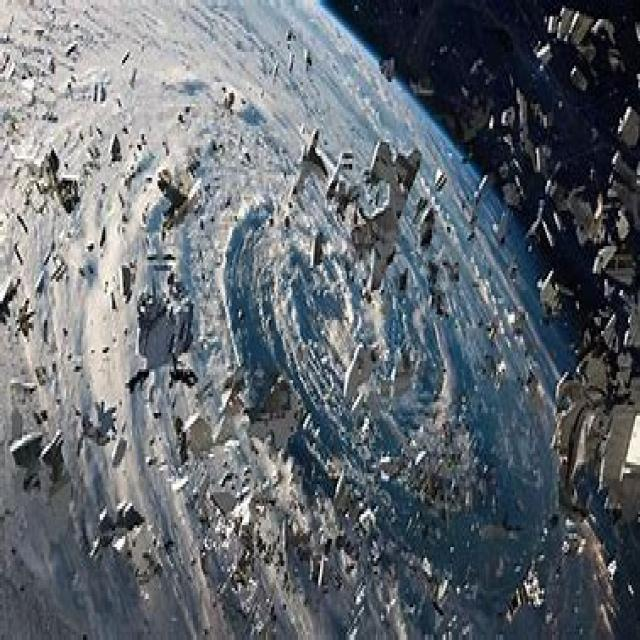large_debris: (558, 103, 640, 604)
